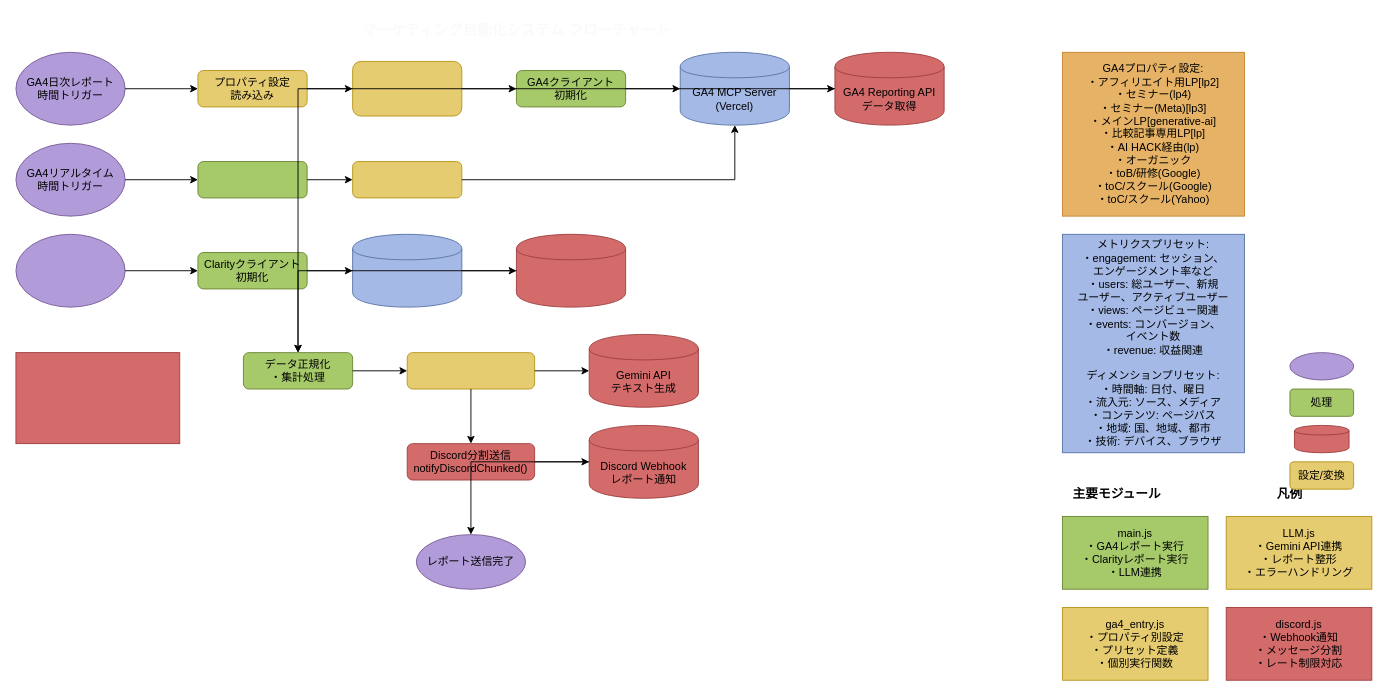
The diagram is 1388 pixels wide and 696 high, and some of its shapes have lost their labels. The centre of each missing label's shape, as x and y in pixels:
API/外部: (x=1321, y=439)
Clarity MCP Server (Vercel): (x=407, y=270)
Clarity 時間トリガー: (x=70, y=270)
GA4リアルタイム クライアント: (x=252, y=179)
LLM (Gemini) 自然言語レポート変換: (x=470, y=370)
Microsoft Clarity API ユーザー行動データ: (x=571, y=270)
エラーハンドリング: ・プロパティ単位での エラー分離 ・Discord通知によるエラー報告 ・リトライ機能 ・ログ出力: (x=97, y=398)
トリガー: (x=1321, y=366)
メトリクス・ ディメンション プリセット処理: (x=407, y=88)
リアルタイム用 プリセット処理: (x=407, y=179)
